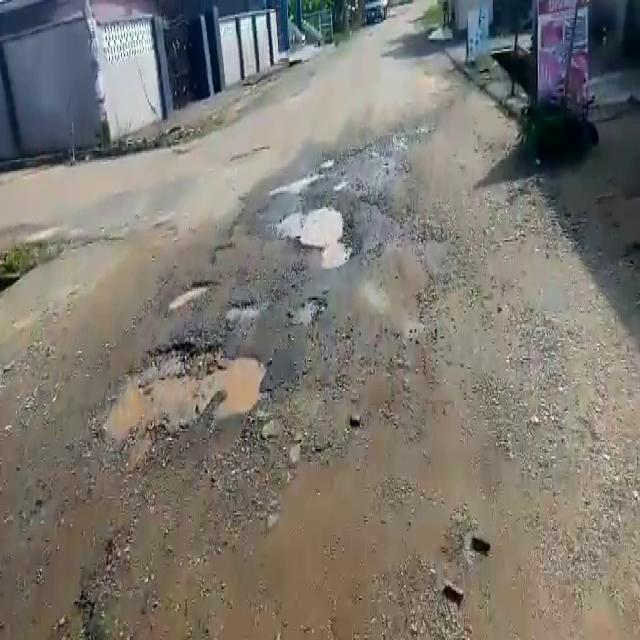pothole: (90, 346, 267, 447), (269, 199, 353, 263), (165, 277, 214, 316), (226, 300, 260, 327)
